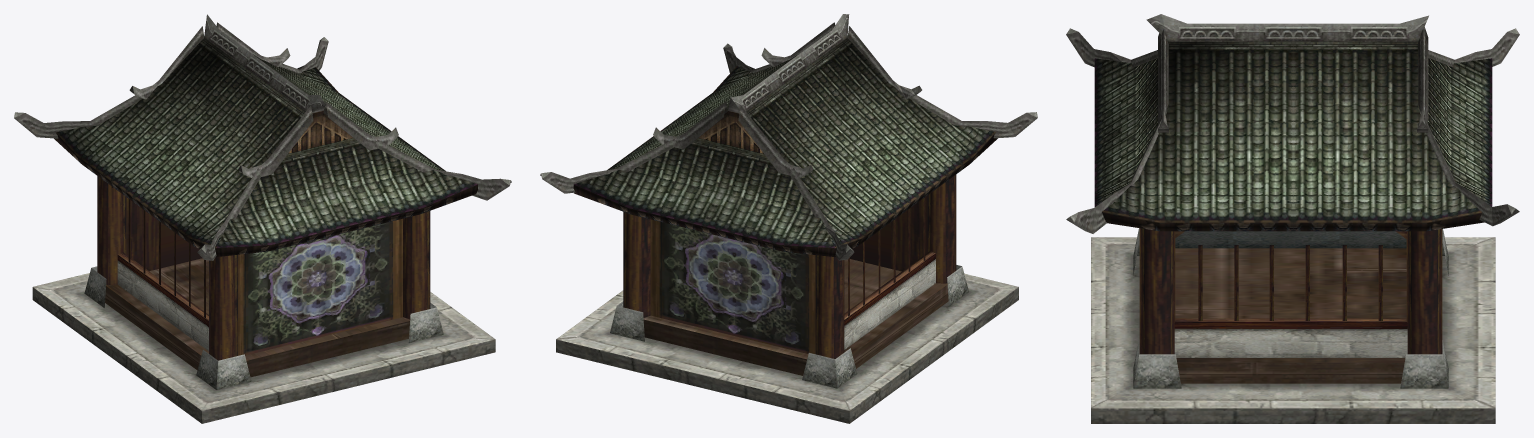
File: ob-004-hause2_lod_01.fbx
The picture shows the model from 3 angles, left to right: view 1: azimuth 30°, elevation 25°; view 2: azimuth 150°, elevation 25°; view 3: azimuth 270°, elevation 25°; orthographic projection. The views are drawn at different scales.
Visible parts, largest first — view 1: ob-004-hause2; view 2: ob-004-hause2; view 3: ob-004-hause2.
Part boxes in pixels (<box>): ob-004-hause2: <box>14,14,511,423</box>; ob-004-hause2: <box>540,14,1037,423</box>; ob-004-hause2: <box>1066,14,1519,423</box>.
Bounding box in the file's own units: 4.01 × 3.31 × 4.19.
